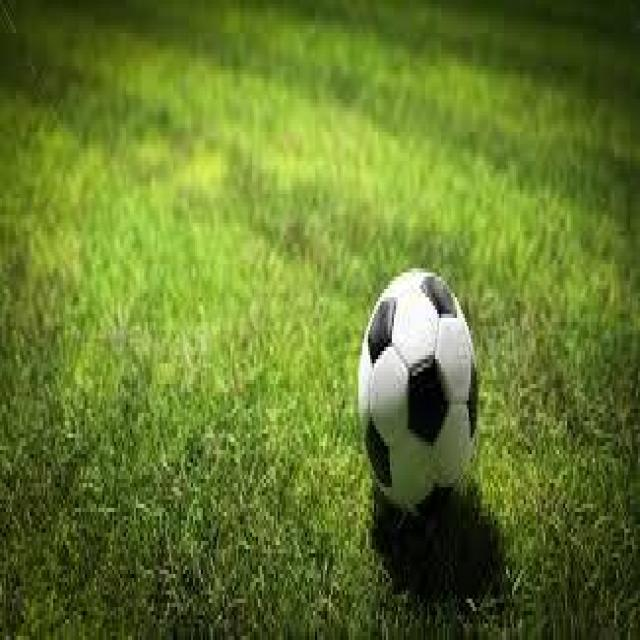Soccer Ball: (362, 268, 478, 508)
